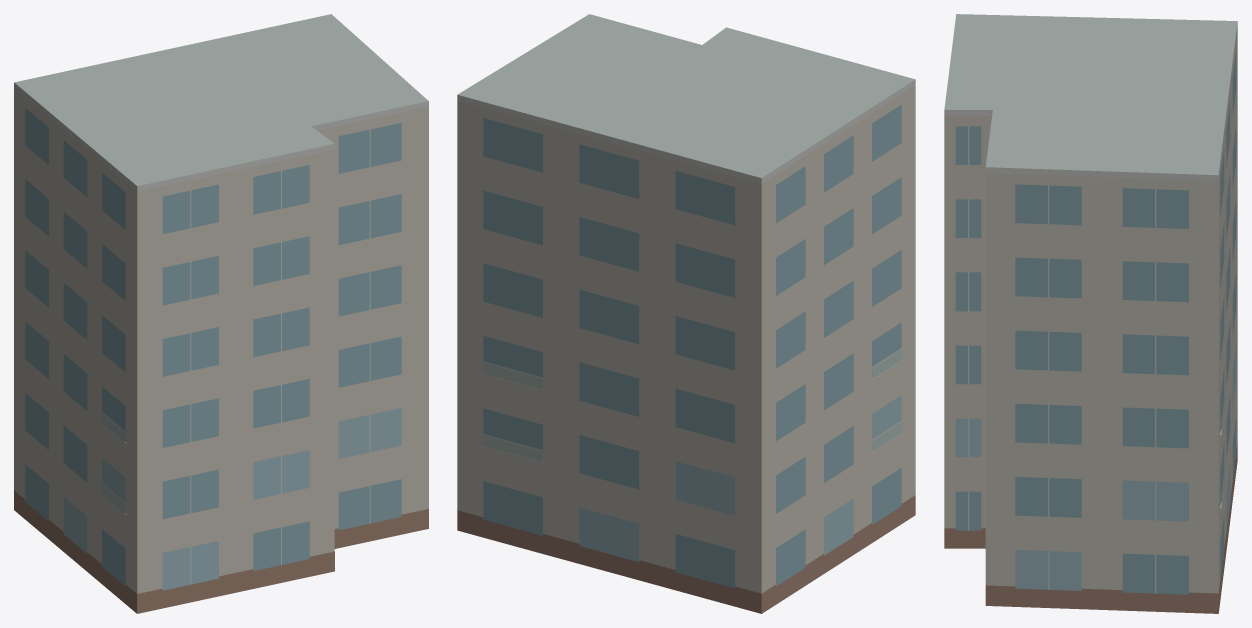
File: survey-upis-32760617.glb
3 renders of one model, left to right at view 1: azimuth 30°, elevation 25°; view 2: azimuth 150°, elevation 25°; view 3: azimuth 270°, elevation 25°, orthographic. The views are drawn at different scales.
Visible parts, largest first — view 1: survey-upis-32760617.tmp; view 2: survey-upis-32760617.tmp; view 3: survey-upis-32760617.tmp.
Part boxes in pixels (x1=…): survey-upis-32760617.tmp: x1=14, y1=14, x2=428, y2=613; survey-upis-32760617.tmp: x1=457, y1=14, x2=915, y2=613; survey-upis-32760617.tmp: x1=944, y1=14, x2=1237, y2=613.
Bounding box in the file's own units: 14.43 × 18.3 × 11.1.
